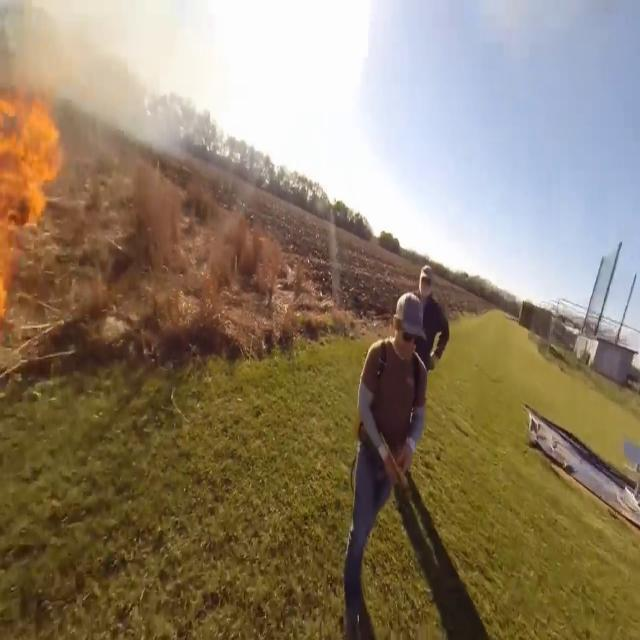Fire: (0, 78, 72, 372)
